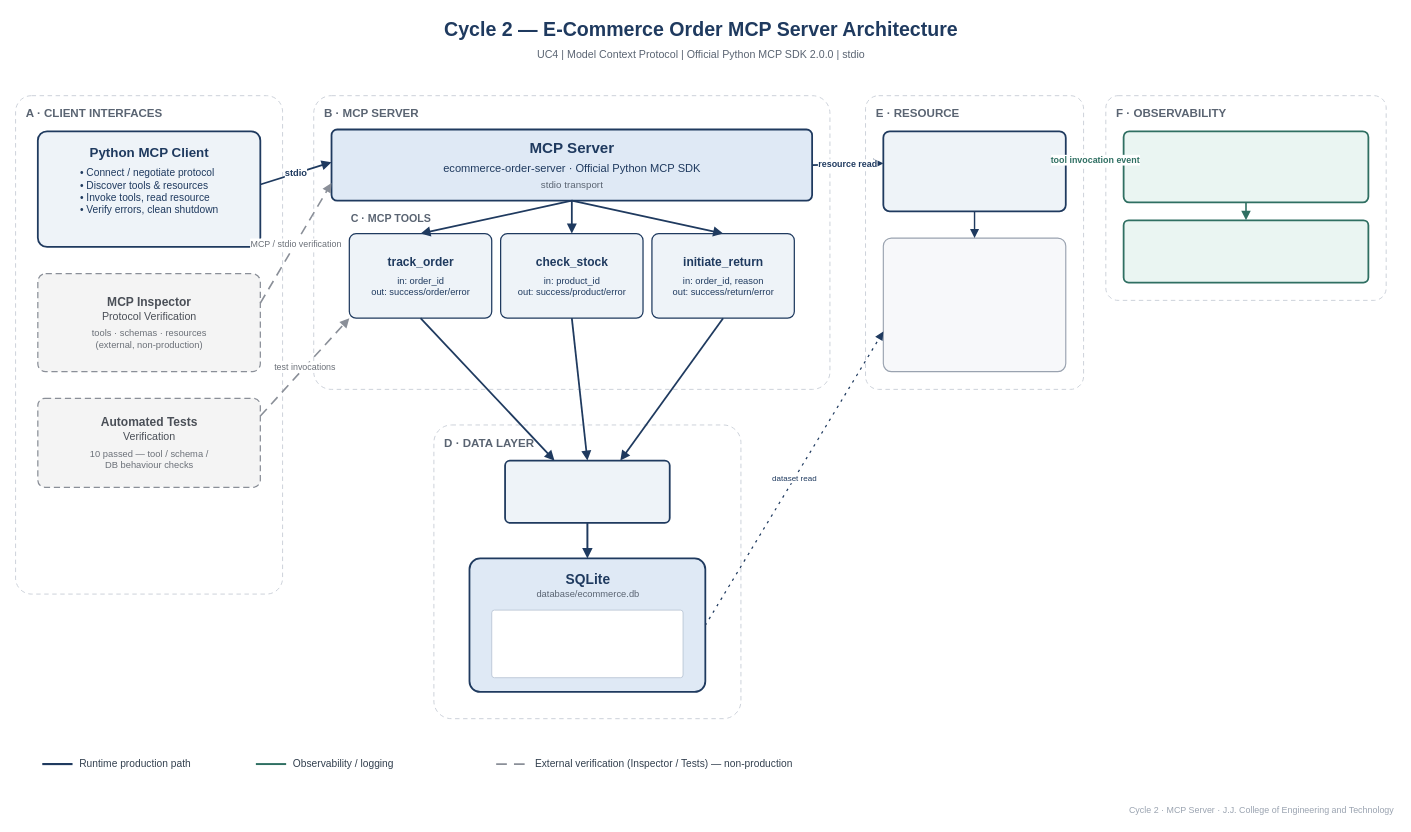
The diagram is 1411 pixels wide and 832 high, and some of its shapes have lost their labels. The shapes that lost their labels are listed below. From the top down, each one's centre as x and y in pixels, then its label:
point (974, 171): ecommerce://summary read-only MCP resource no DB writes
point (1245, 166): Invocation Logger timestamp · tool · sanitized args success/failure · error info
point (1245, 251): JSONL Runtime Log append-only invocation log
point (974, 304): Dataset Summary Database: SQLite Products: 5 Orders: 4 Returns: 0
point (587, 491): Database Layer
point (587, 643): products orders returns
